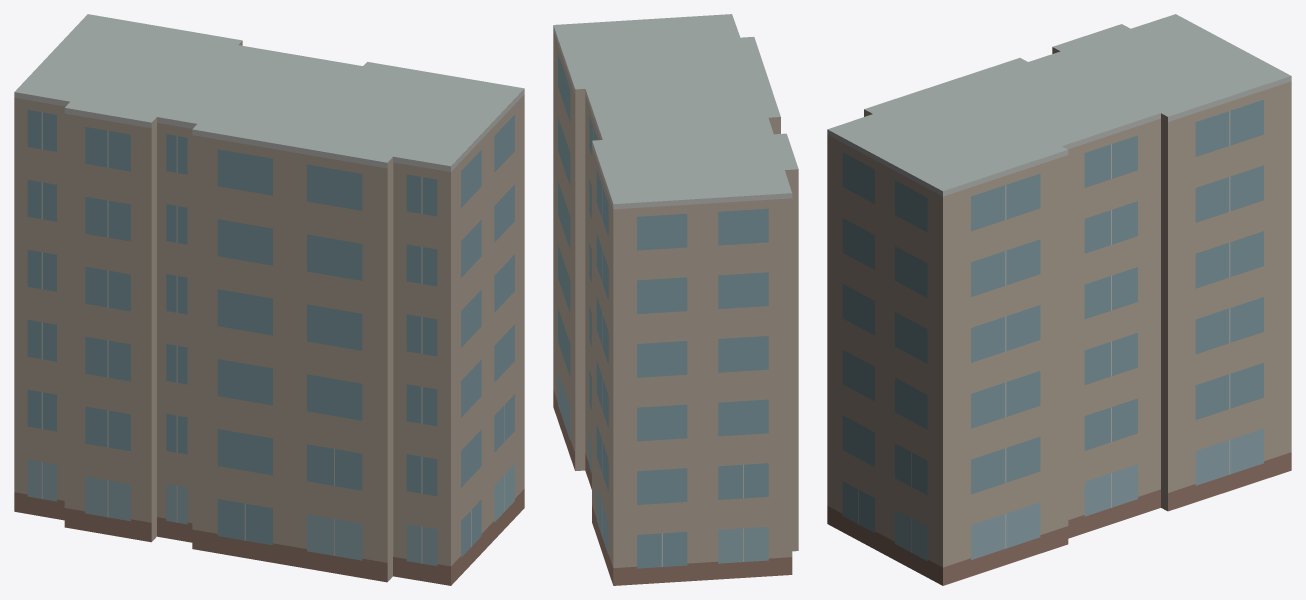
File: survey-upis-32679501.glb
3 renders of one model, left to right at view 1: azimuth 30°, elevation 25°; view 2: azimuth 150°, elevation 25°; view 3: azimuth 270°, elevation 25°, orthographic. The views are drawn at different scales.
Parts seen in each view (by area): view 1: survey-upis-32679501.tmp; view 2: survey-upis-32679501.tmp; view 3: survey-upis-32679501.tmp.
Boxes of the visible parts, left/top/right/bottom form: survey-upis-32679501.tmp: left=14, top=14, right=524, bottom=585; survey-upis-32679501.tmp: left=553, top=14, right=798, bottom=585; survey-upis-32679501.tmp: left=827, top=14, right=1291, bottom=585.
Bounding box in the file's own units: 17.31 × 17.95 × 19.15.
